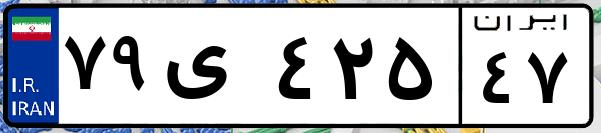2: (330, 28, 385, 110)
4: (270, 28, 330, 110), (475, 38, 525, 113)
5: (385, 28, 445, 110)
7: (57, 26, 110, 100), (525, 38, 570, 115)
9: (110, 28, 158, 98)
ی: (158, 20, 270, 120)
